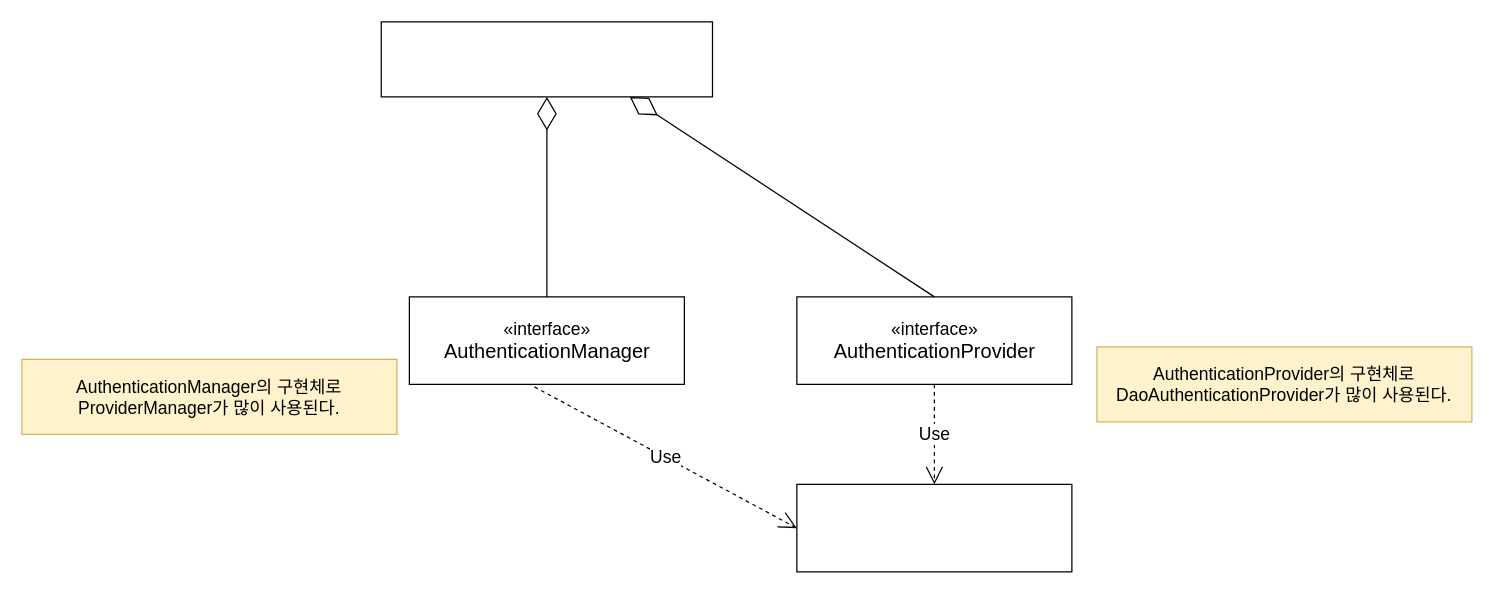
Some shapes in this 1494 by 594 pixel diagram are drawn without their labels. The centre of each missing label's shape, as x and y in pixels:
AuthenticationManagerBuilder: the point at 546,59
«interface» Authentication: the point at 934,527
